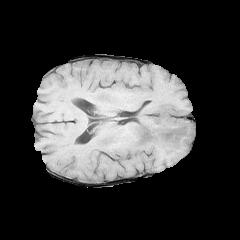glioma: (126, 105, 194, 150)
